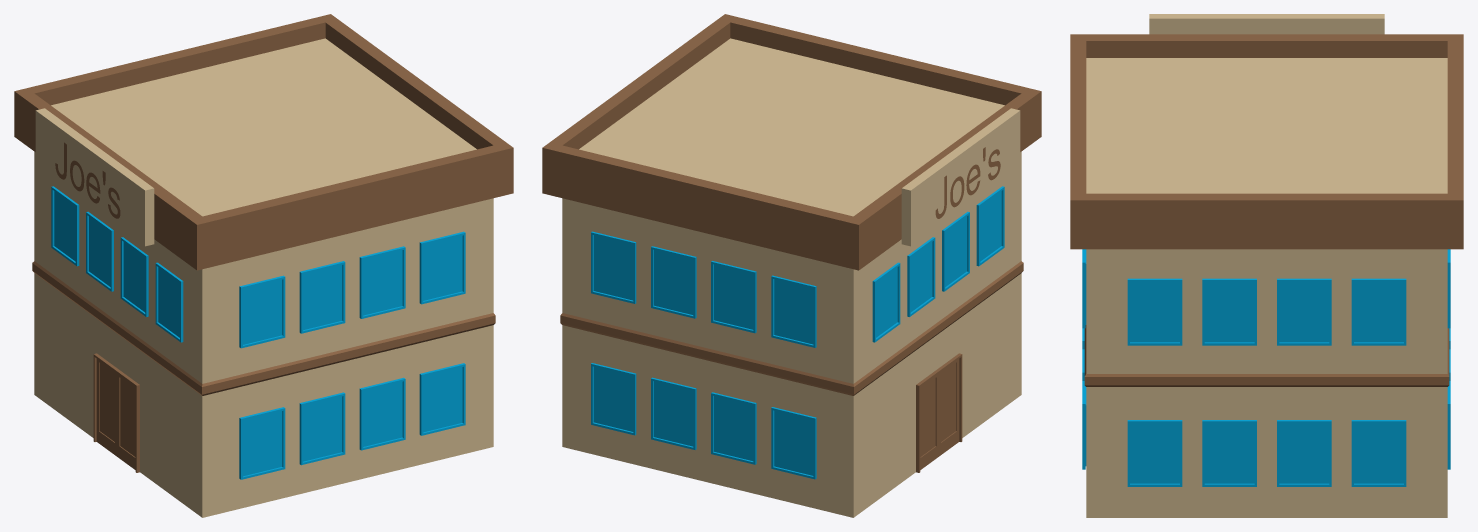
Rendered from Building 3.FBX.
The picture shows the model from 3 angles, left to right: view 1: azimuth 30°, elevation 25°; view 2: azimuth 150°, elevation 25°; view 3: azimuth 270°, elevation 25°; orthographic projection. The views are drawn at different scales.
Visible parts, largest first — view 1: Box001, Box002, PivotDoor001, AwningWindow023, AwningWindow011, AwningWindow012, AwningWindow024, AwningWindow026, AwningWindow013, AwningWindow014, AwningWindow025, AwningWindow006 (+4 smaller); view 2: Box001, Box002, PivotDoor001, AwningWindow007, AwningWindow008, AwningWindow009, AwningWindow019, AwningWindow020, AwningWindow010, AwningWindow022, AwningWindow021, AwningWindow003 (+4 smaller); view 3: Box001, Box002, AwningWindow015, AwningWindow018, AwningWindow027, AwningWindow030, AwningWindow016, AwningWindow017, AwningWindow028, AwningWindow029.
Part boxes in pixels (x1,y1,x2,y2): Box001: [14, 14, 513, 517]; Box002: [35, 108, 154, 246]; PivotDoor001: [93, 353, 139, 472]; AwningWindow023: [419, 363, 465, 435]; AwningWindow011: [419, 231, 465, 304]; AwningWindow012: [359, 246, 405, 318]; AwningWindow024: [359, 377, 405, 450]; AwningWindow026: [239, 407, 285, 479]; AwningWindow013: [299, 261, 345, 333]; AwningWindow014: [239, 275, 285, 348]; AwningWindow025: [299, 392, 345, 465]; AwningWindow006: [51, 186, 79, 266]; Box001: [542, 14, 1041, 517]; Box002: [901, 108, 1020, 246]; PivotDoor001: [916, 353, 962, 472]; AwningWindow007: [771, 275, 816, 347]; AwningWindow008: [711, 261, 756, 333]; AwningWindow009: [651, 246, 696, 318]; AwningWindow019: [771, 407, 816, 479]; AwningWindow020: [711, 392, 756, 464]; AwningWindow010: [591, 231, 636, 303]; AwningWindow022: [591, 363, 636, 435]; AwningWindow021: [651, 377, 696, 449]; AwningWindow003: [976, 186, 1004, 266]; Box001: [1070, 34, 1463, 517]; Box002: [1149, 14, 1384, 34]; AwningWindow015: [1351, 278, 1406, 345]; AwningWindow018: [1127, 278, 1182, 345]; AwningWindow027: [1351, 420, 1406, 486]; AwningWindow030: [1127, 420, 1182, 486]; AwningWindow016: [1277, 278, 1331, 345]; AwningWindow017: [1202, 278, 1256, 345]; AwningWindow028: [1277, 420, 1331, 486]; AwningWindow029: [1202, 420, 1256, 486].
Bounding box in the file's own units: 345 × 308 × 326.
